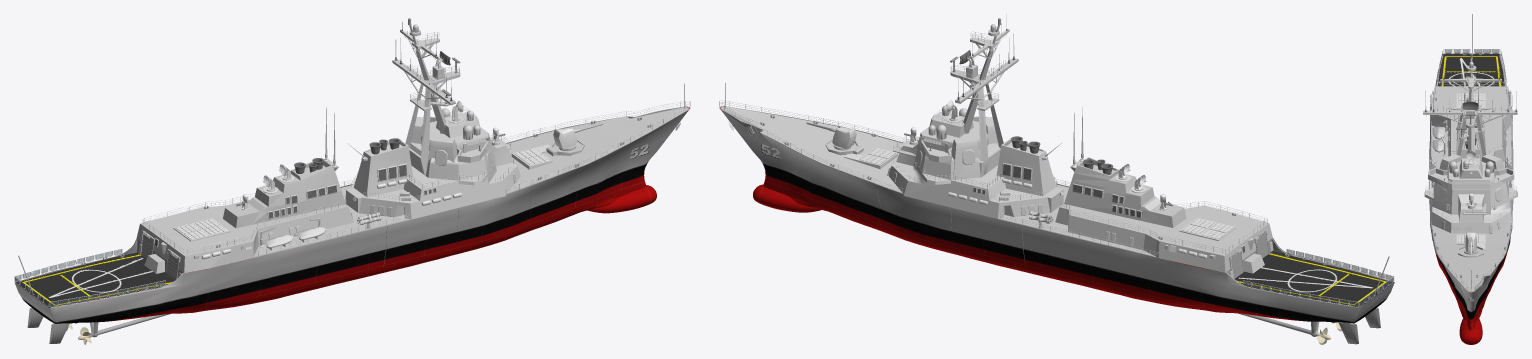
The model's file is Burke-Class-DDG-52-USS-Barry-v05_optimized.glb.
3 renders of one model, left to right at view 1: azimuth 30°, elevation 25°; view 2: azimuth 150°, elevation 25°; view 3: azimuth 270°, elevation 25°, orthographic. The views are drawn at different scales.
Parts seen in each view (by area): view 1: Section_part14, Section_hull, Section_deck3, Section_part14.001, Section_gun0, Section_part12, Section_part13, Section_part7, Section_propeller1, Section_rudder; view 2: Section_part14, Section_hull, Section_deck3, Section_part14.001, Section_gun0, Section_part12, Section_part13, Section_propeller0, Section_part7, Section_rudder; view 3: Section_part14, Section_deck3, Section_hull, Section_gun0, Section_part12, Section_deck0001, Section_deck0009, Section_part14.001, Section_part13, Section_deck0003, Section_deck00011, Section_deck0002 (+9 smaller).
Part boxes in pixels (<box>): Section_part14: <box>14,18,690,307</box>; Section_hull: <box>14,106,690,323</box>; Section_deck3: <box>254,107,688,256</box>; Section_part14.001: <box>15,249,165,306</box>; Section_gun0: <box>546,123,603,156</box>; Section_part12: <box>173,218,230,241</box>; Section_part13: <box>511,144,552,169</box>; Section_part7: <box>294,138,400,173</box>; Section_propeller1: <box>78,313,171,344</box>; Section_rudder: <box>27,307,69,343</box>; Section_part14: <box>719,14,1394,307</box>; Section_hull: <box>719,106,1394,323</box>; Section_deck3: <box>721,106,1155,256</box>; Section_part14.001: <box>1243,249,1393,306</box>; Section_gun0: <box>806,122,863,155</box>; Section_part12: <box>1179,217,1236,240</box>; Section_part13: <box>844,147,897,169</box>; Section_propeller0: <box>1238,313,1330,344</box>; Section_part7: <box>1011,136,1113,174</box>; Section_rudder: <box>1338,308,1380,344</box>; Section_part14: <box>1423,14,1517,292</box>; Section_deck3: <box>1431,125,1511,291</box>; Section_hull: <box>1429,53,1513,344</box>; Section_gun0: <box>1458,232,1483,257</box>; Section_part12: <box>1456,93,1485,109</box>; Section_deck0001: <box>1442,53,1470,62</box>; Section_deck0009: <box>1472,53,1500,62</box>; Section_part14.001: <box>1437,49,1506,81</box>; Section_part13: <box>1456,234,1485,249</box>; Section_deck0003: <box>1439,68,1470,75</box>; Section_deck00011: <box>1472,68,1503,75</box>; Section_deck0002: <box>1440,62,1469,68</box>.
Size of the model in its own units: 157 by 54.26 by 23.55.
Materials: 22 (22 with a texture image).
